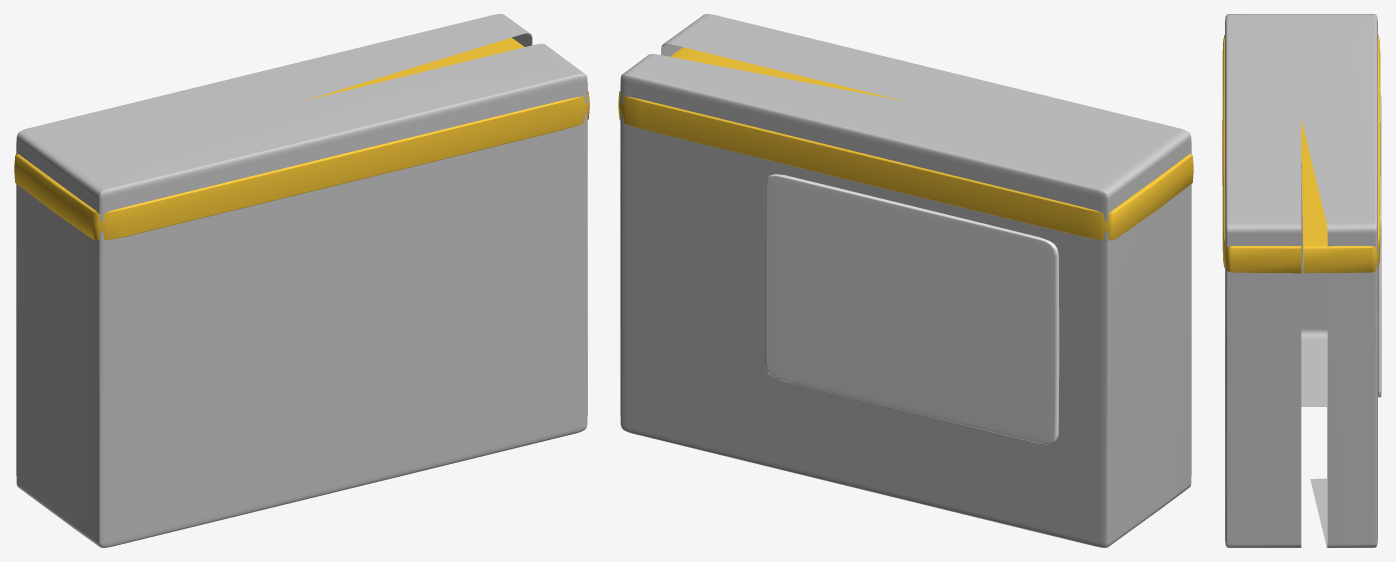
File: furniture_kit.fbx
3 views of the same model, side by side, from view 1: azimuth 30°, elevation 25°; view 2: azimuth 150°, elevation 25°; view 3: azimuth 270°, elevation 25° (orthographic). The views are drawn at different scales.
Visible parts, largest first — view 1: furniture_kit; view 2: furniture_kit; view 3: furniture_kit.
Part boxes in pixels (<box>): furniture_kit: <box>14,14,589,547</box>; furniture_kit: <box>618,14,1193,547</box>; furniture_kit: <box>1222,14,1381,547</box>.
Bounding box in the file's own units: 1.02 × 0.7 × 0.312.
